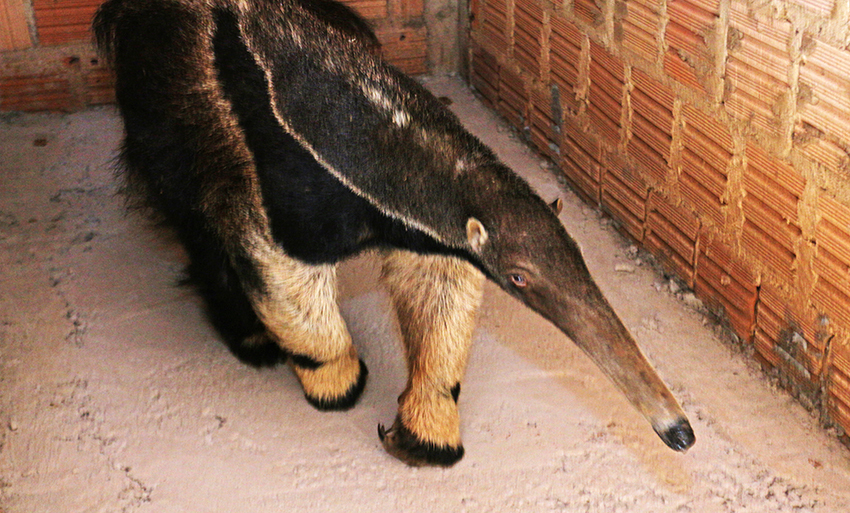TamanduaBandeira: (83, 7, 702, 476)
